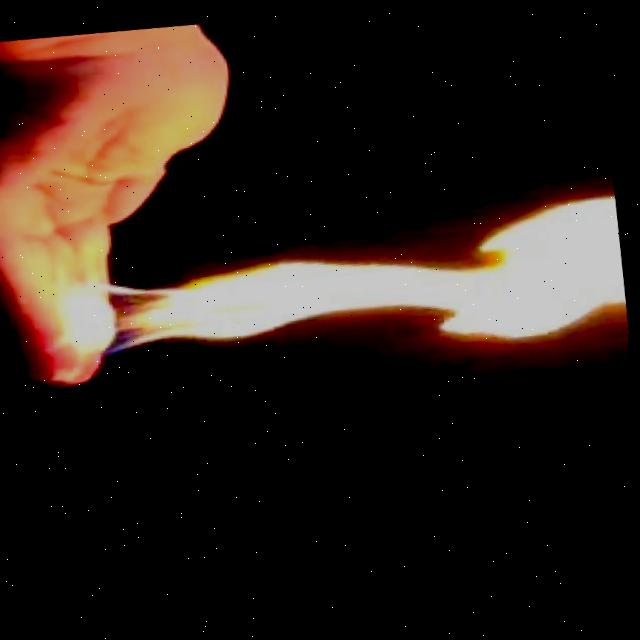Fire: (51, 166, 635, 408)
